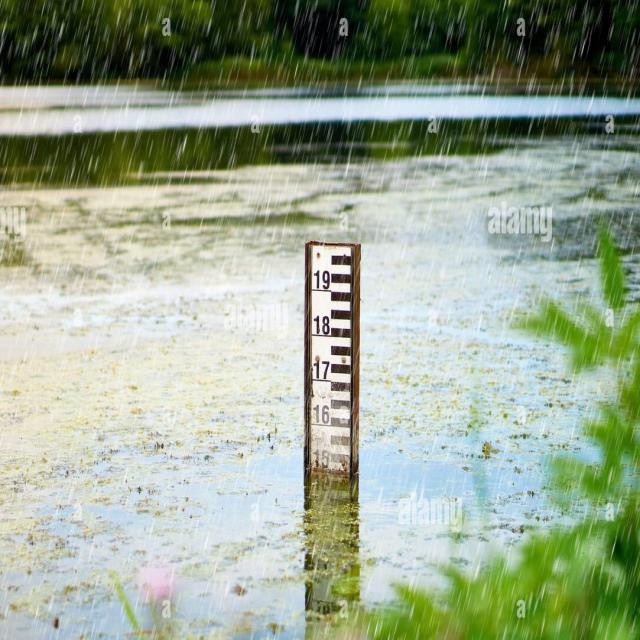ruler: (295, 237, 364, 490)
value: (312, 310, 334, 340), (312, 402, 333, 429), (311, 357, 332, 382), (312, 269, 333, 294), (311, 447, 331, 472)
